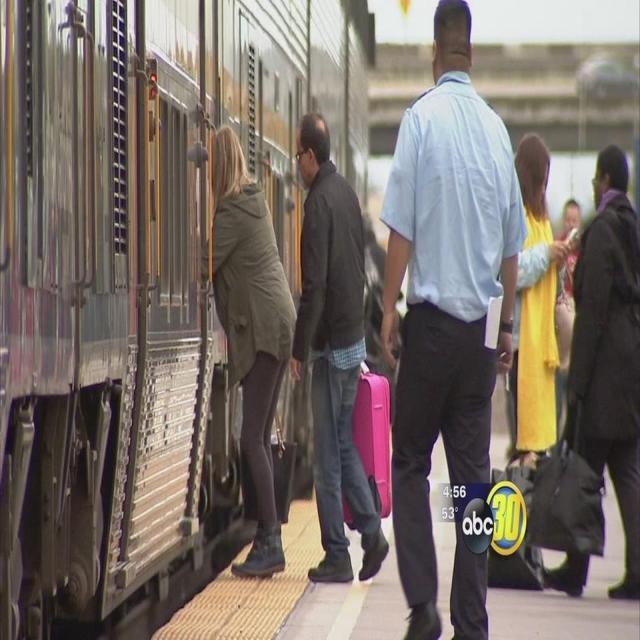body: (376, 0, 531, 639), (286, 106, 392, 586), (538, 140, 640, 606), (201, 125, 299, 580), (508, 129, 582, 462), (545, 198, 581, 461), (362, 208, 394, 375)
